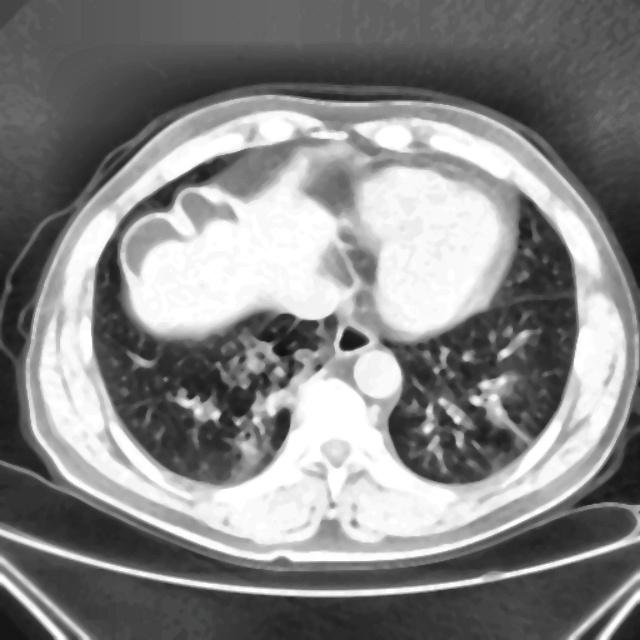covid: (6, 83, 638, 571)
